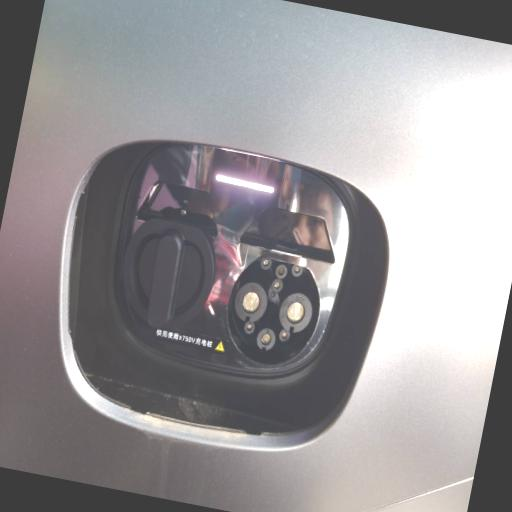DC_charging_port: (216, 249, 330, 376)
DC_hole: (230, 279, 272, 328), (274, 290, 316, 338)
PE: (254, 326, 279, 354)
